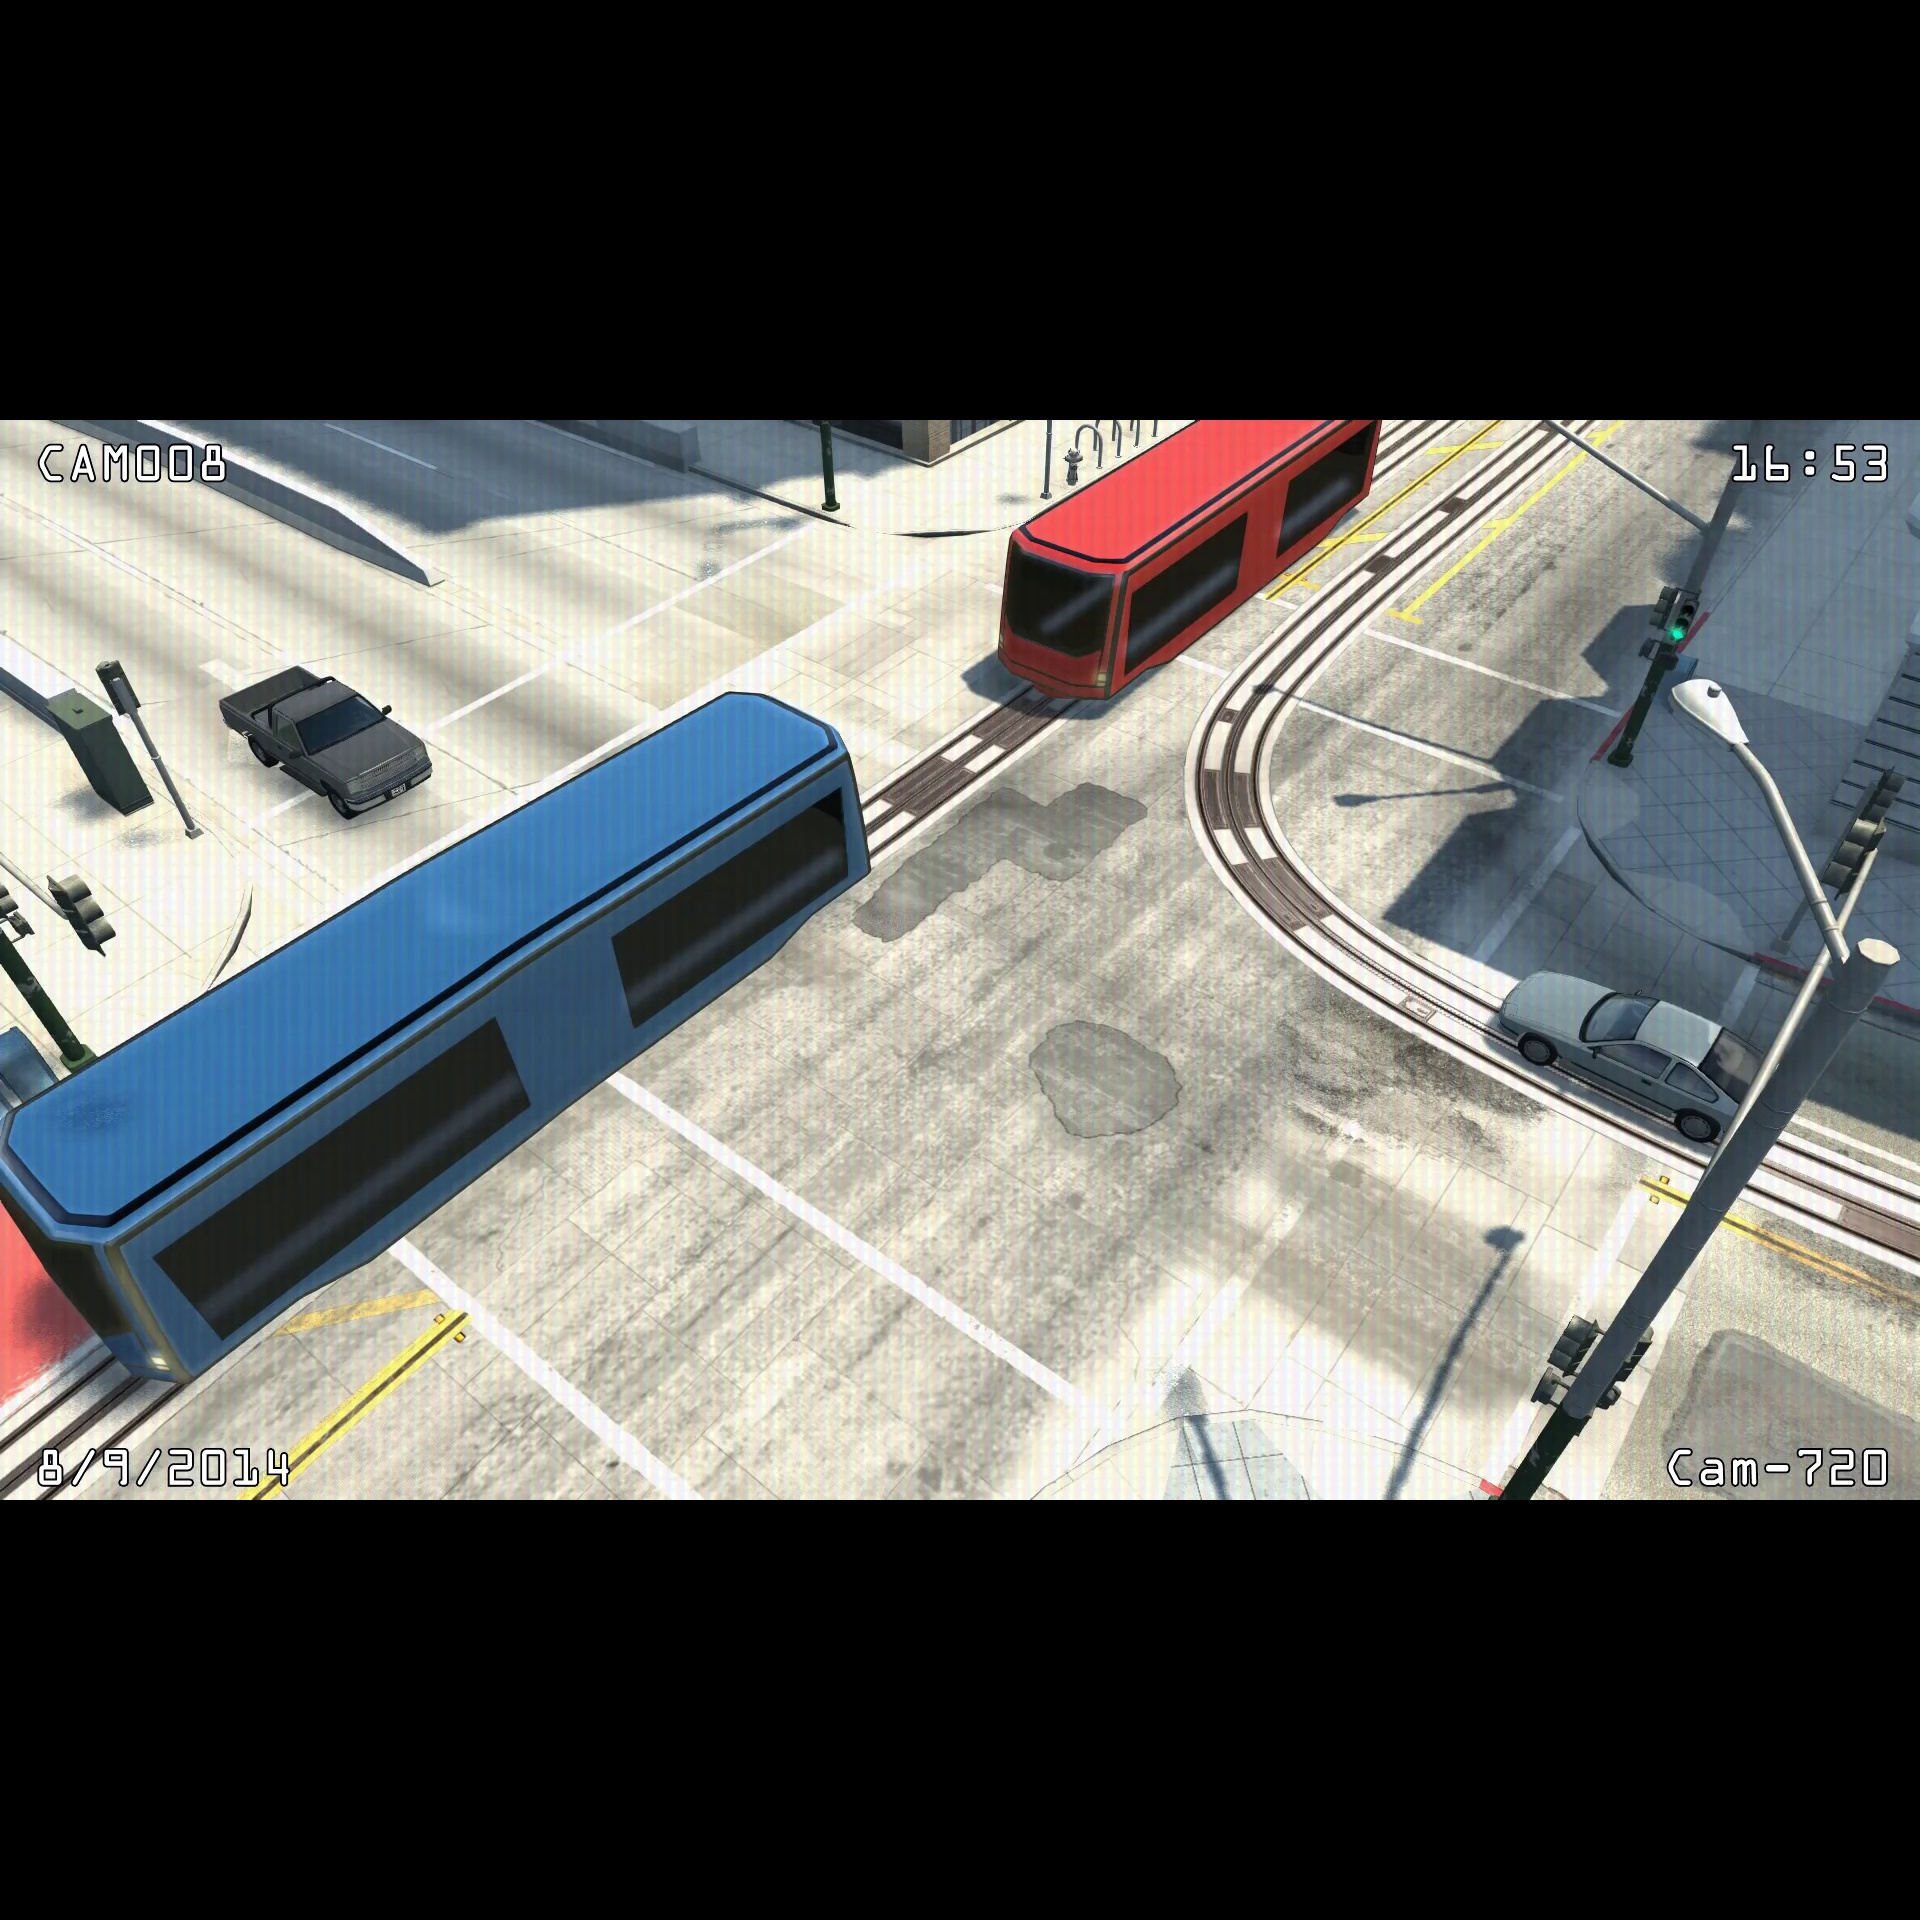vehicle: (2, 679, 884, 1391), (993, 420, 1393, 712), (1489, 958, 1779, 1150), (211, 658, 448, 819)
